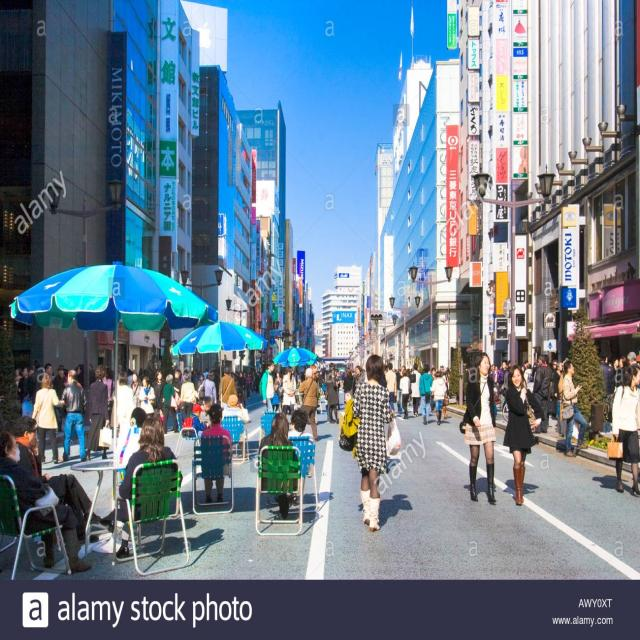body: (0, 430, 92, 575), (100, 414, 186, 561), (12, 416, 102, 544), (338, 354, 396, 530), (459, 351, 498, 504), (503, 364, 545, 506), (606, 363, 640, 496), (199, 402, 233, 503), (257, 412, 299, 491), (31, 373, 67, 463), (558, 358, 590, 459), (311, 362, 365, 416), (84, 364, 112, 463), (59, 368, 87, 461), (75, 358, 125, 410), (9, 357, 68, 396), (598, 352, 640, 395), (288, 409, 314, 477), (298, 367, 319, 441), (533, 353, 552, 434), (116, 370, 134, 454), (545, 354, 568, 418), (488, 358, 510, 412), (230, 367, 261, 404), (126, 364, 167, 390), (182, 402, 210, 438), (430, 370, 448, 426), (258, 359, 276, 414), (418, 363, 433, 426), (221, 394, 250, 425), (219, 366, 238, 411), (162, 373, 176, 434), (281, 366, 297, 419), (274, 364, 304, 392), (126, 403, 150, 437), (324, 362, 337, 423), (171, 368, 183, 434), (180, 372, 197, 418), (138, 375, 156, 418), (520, 356, 542, 390), (398, 368, 412, 420), (384, 362, 397, 417), (409, 363, 422, 418), (431, 364, 453, 394), (190, 364, 220, 385), (199, 371, 217, 404), (154, 368, 166, 410), (396, 366, 406, 416), (129, 371, 142, 407), (382, 361, 402, 373), (200, 396, 213, 414), (442, 396, 450, 419), (430, 394, 436, 412), (406, 363, 416, 373)
